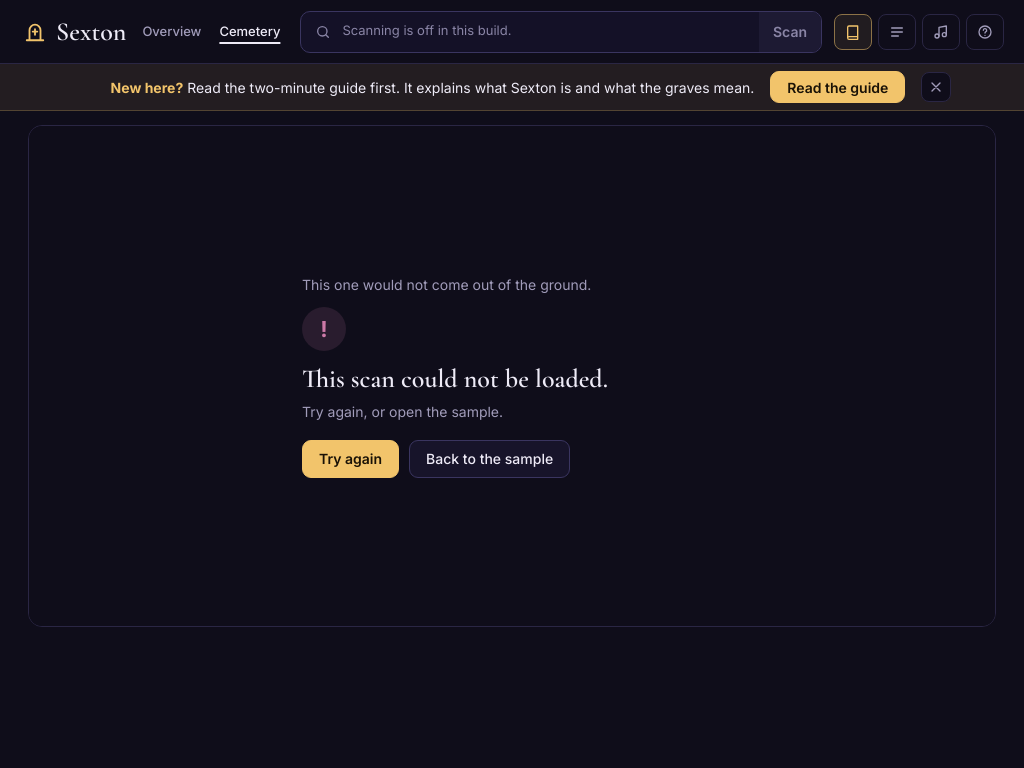
Test: the Legend (13.1, 13.2, 13.11, 13.12) › sits outside the page flow, so opening it moves nothing (13.2)
The width and height of the screenshot is (1024, 768).
Step 1. Click the 2nd button named "Legend" → {"x": 897, "y": 32}, box top-left (878, 14), bottom-right (916, 50)
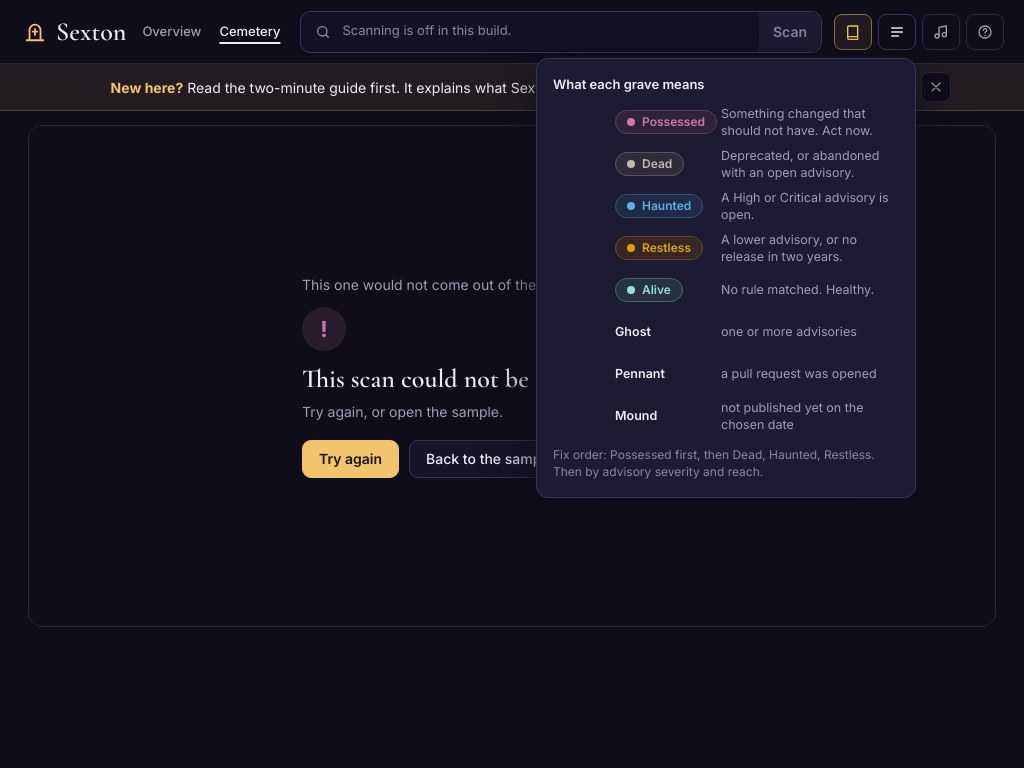
Expected: the element with id "legend-panel" is shown, top-left (536, 58), bottom-right (916, 498)
